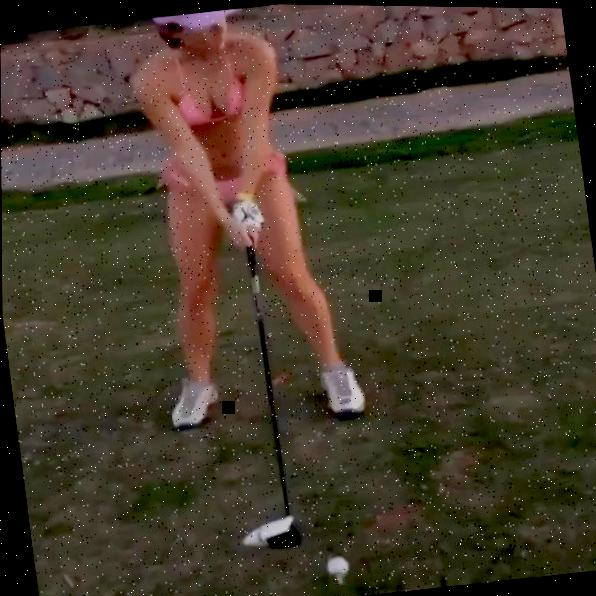ClubHead: (237, 513, 300, 551)
GolfBall: (323, 553, 348, 575)
